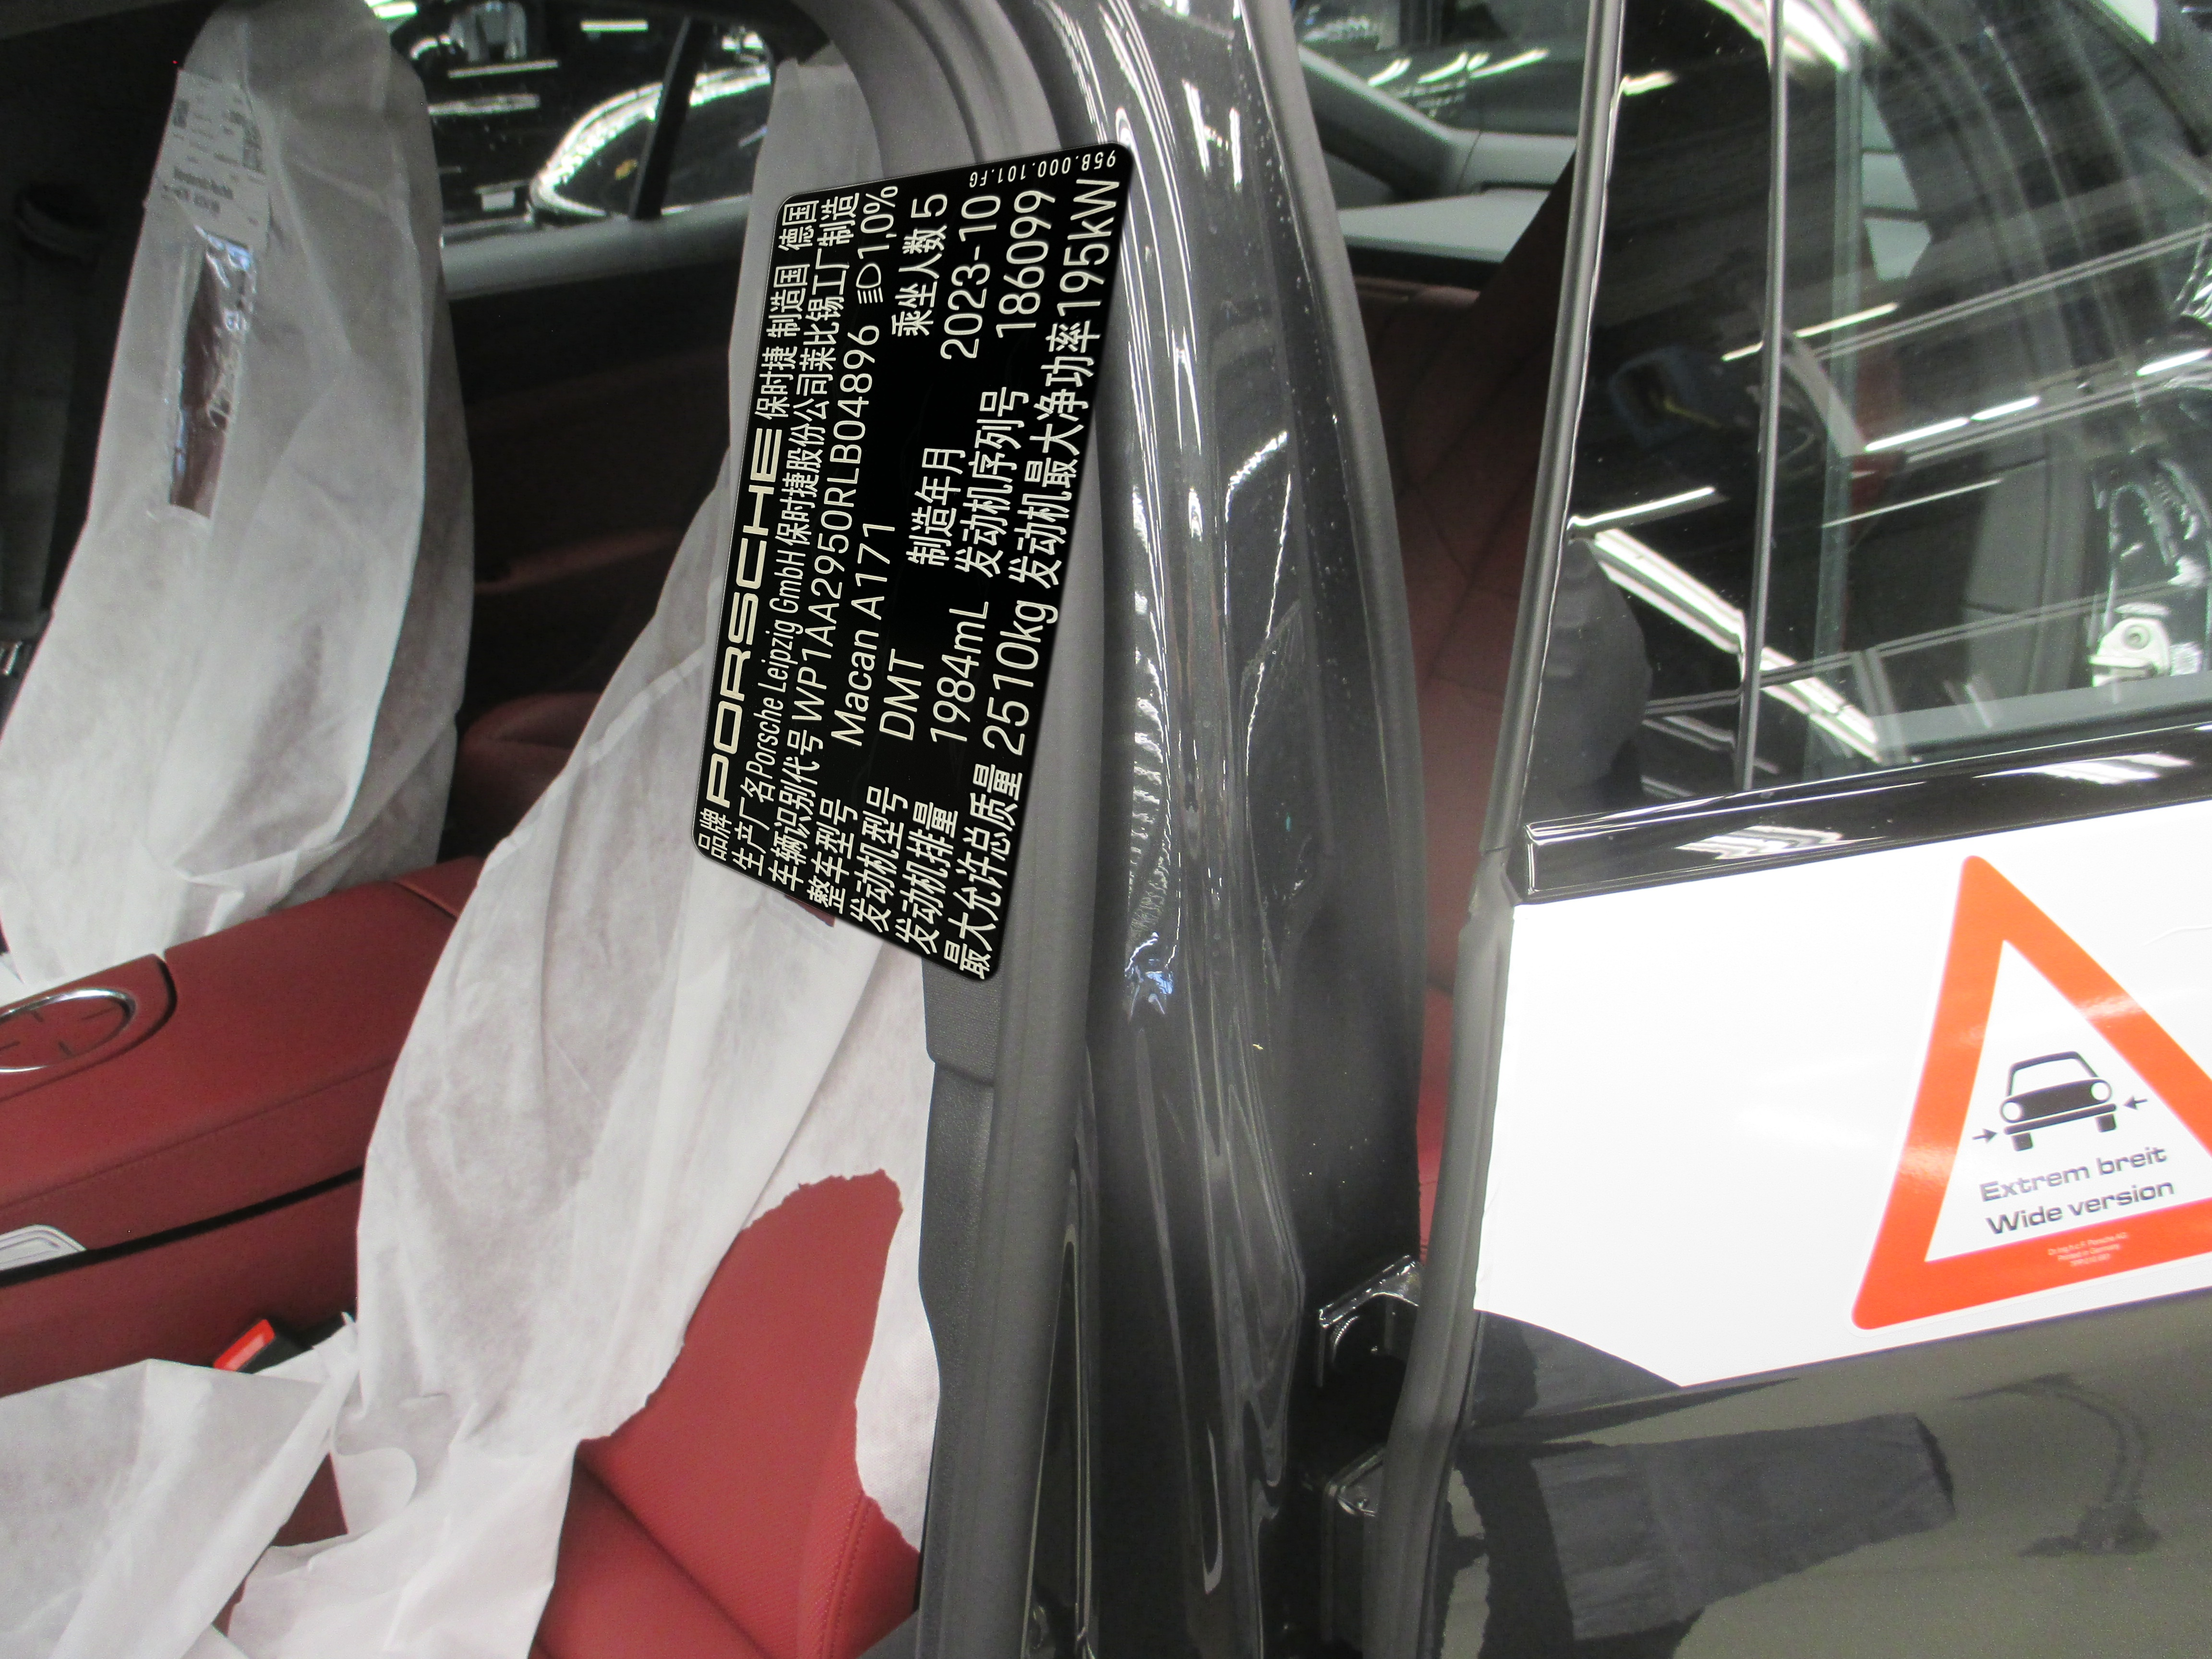Typlabel-China: (691, 141, 1134, 981)
